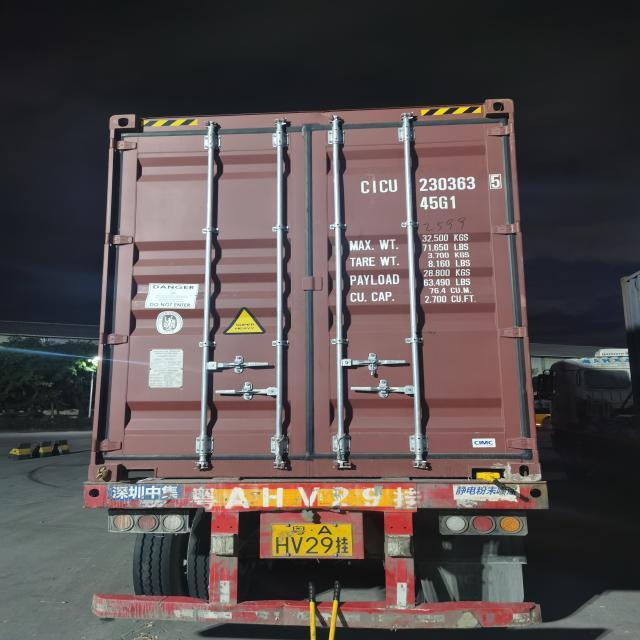ISO: (421, 194, 458, 211)
container_number: (358, 175, 506, 194)
